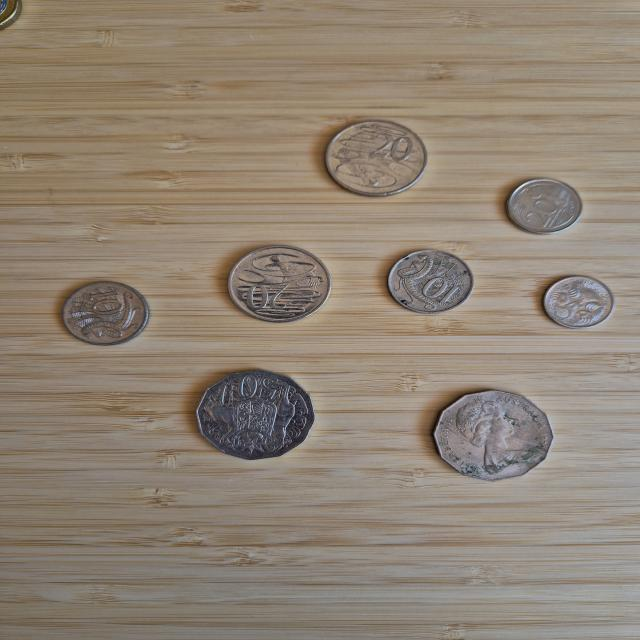10-cents: (54, 277, 153, 350), (383, 248, 477, 317)
20-cents: (314, 116, 429, 200), (217, 244, 332, 326)
5-cents: (494, 175, 587, 237), (534, 273, 620, 334)
50-cents: (430, 388, 555, 485), (190, 369, 317, 464)
